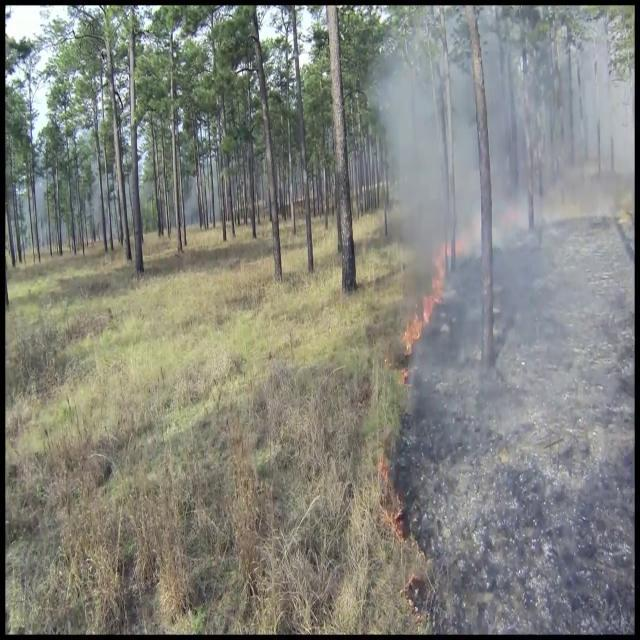Smoke: (372, 8, 633, 500)
